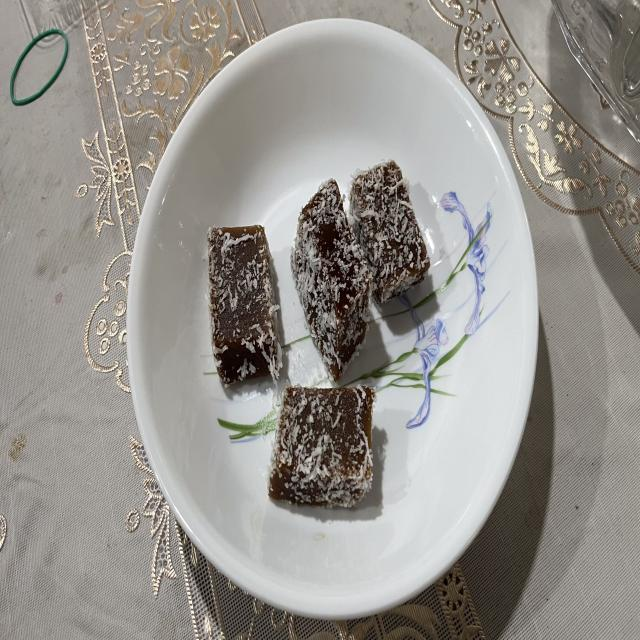kaswi: (291, 180, 371, 380), (268, 387, 375, 507), (208, 224, 281, 384), (350, 160, 430, 302)
